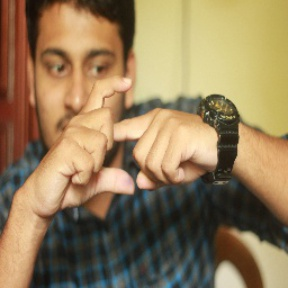E: (63, 73, 177, 203)
